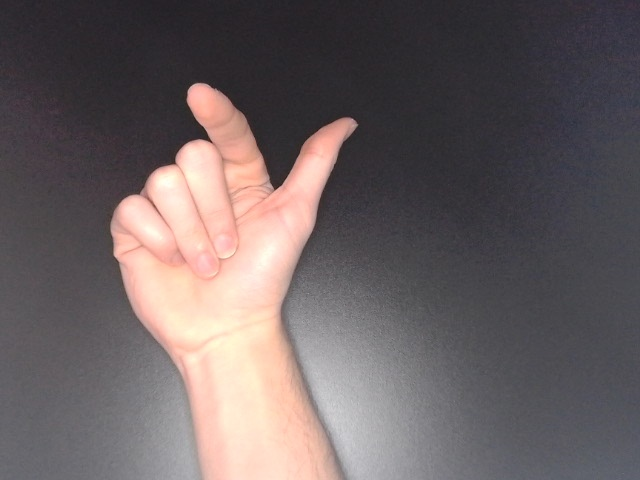t: (106, 77, 365, 373)
